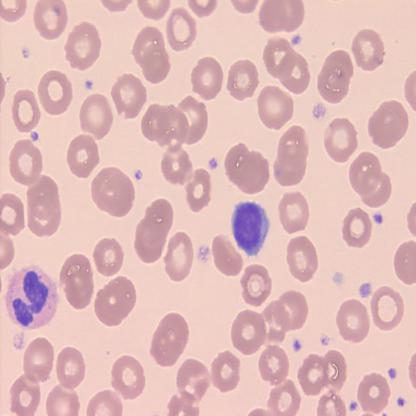Lymphocyte: (230, 200, 271, 258)
